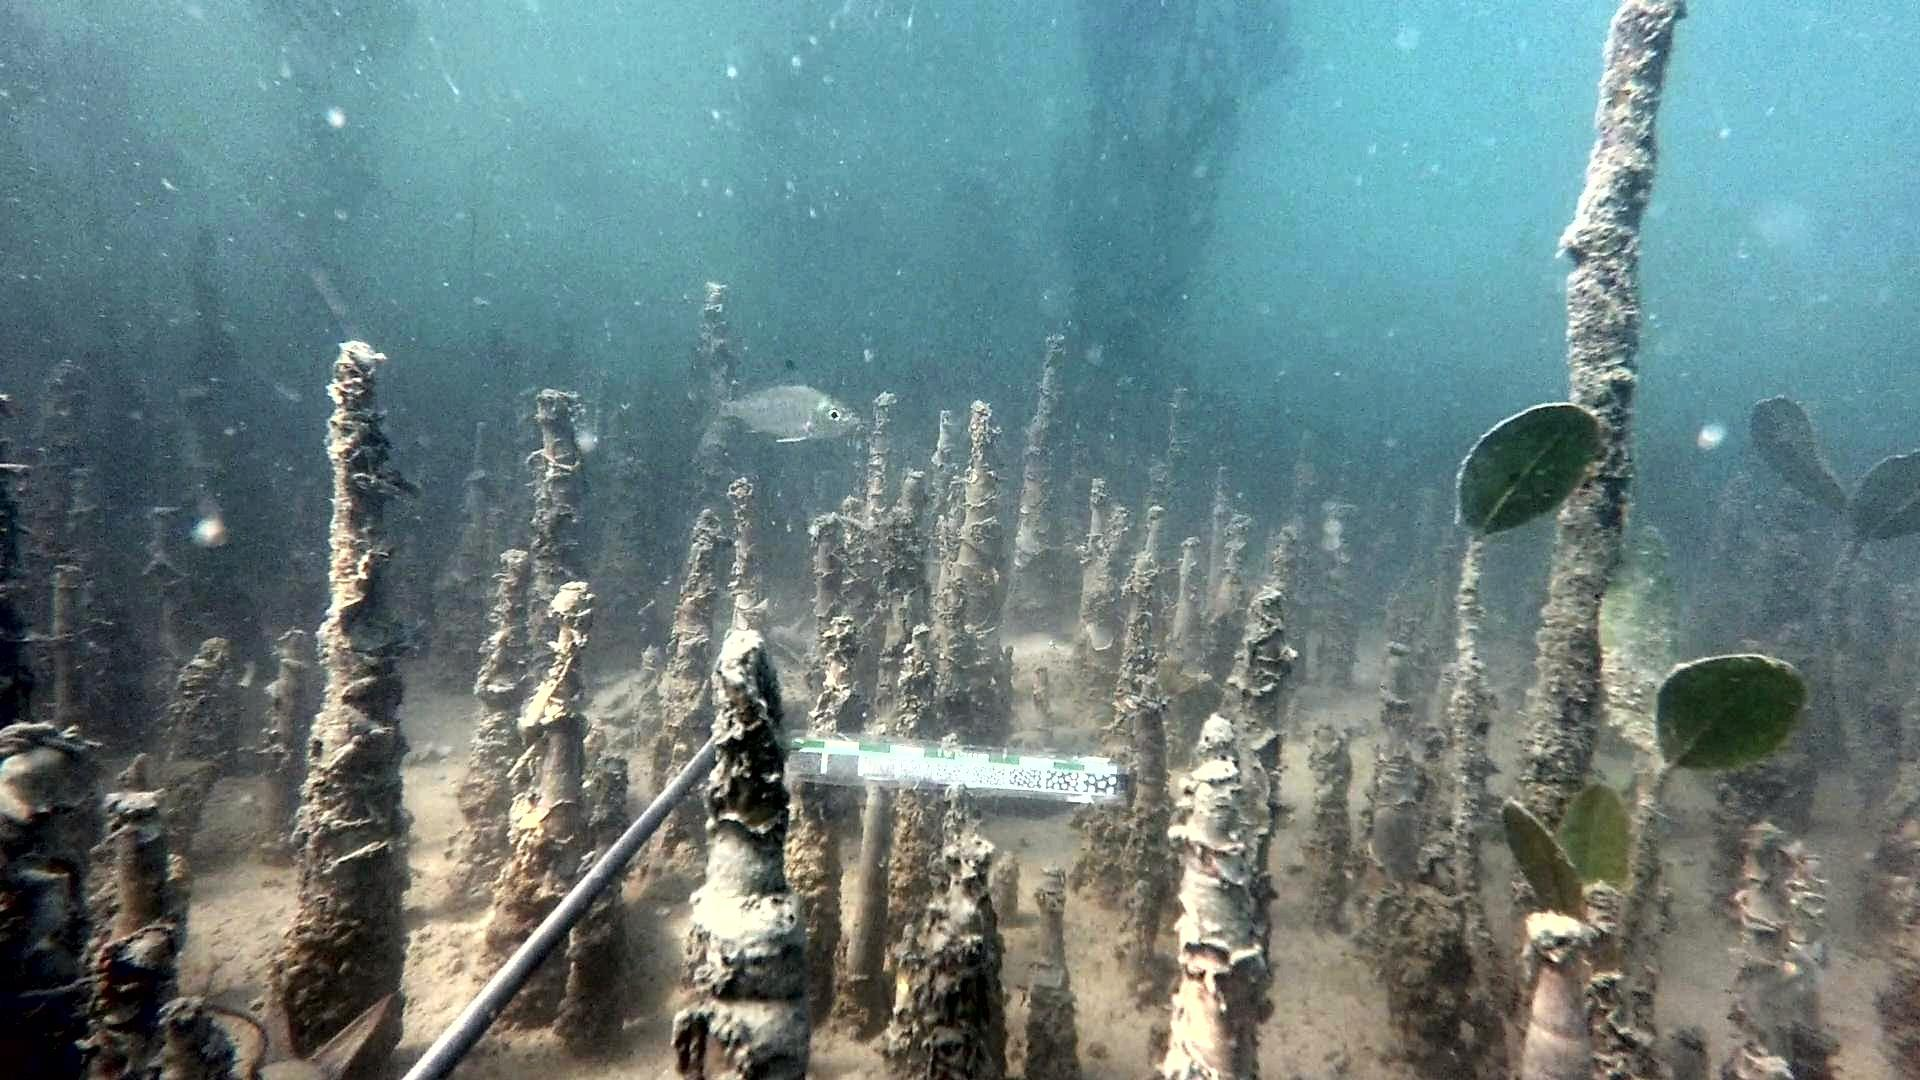gerres: (686, 357, 865, 446)
